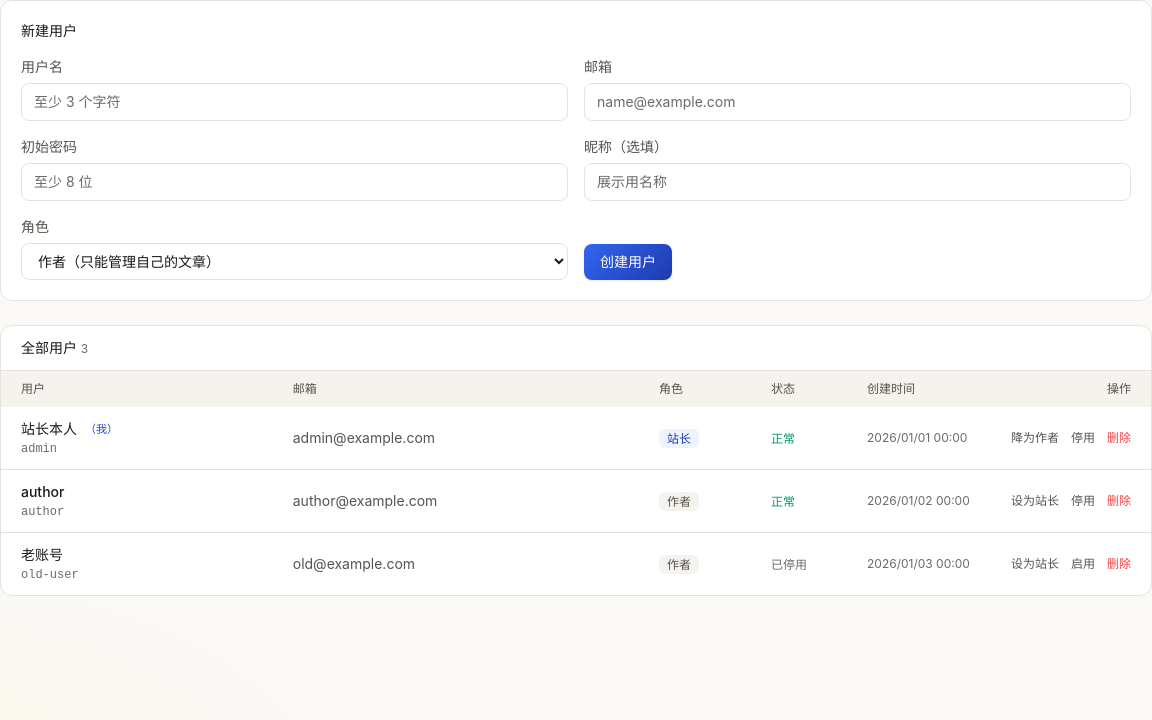
Test: UsersView · 删除用户 › 点「删除」只打开确认框，一个请求都不发
What coordinates should you click on to do the following:
click the button "删除" in the row of "author@example.com"
I would click on:
 (1119, 501)
Its box is [1107, 493, 1131, 509].
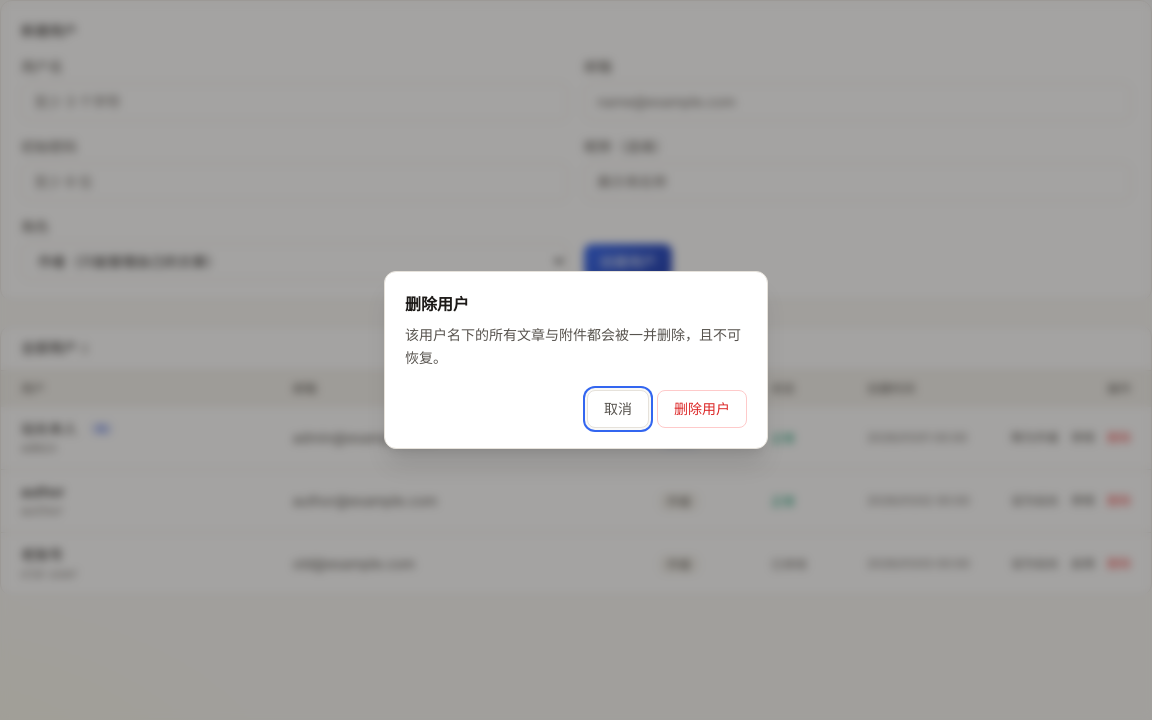
Expected: the dialog shows "该用户名下的所有文章与附件都会被一并删除", [405, 326, 741, 366]
